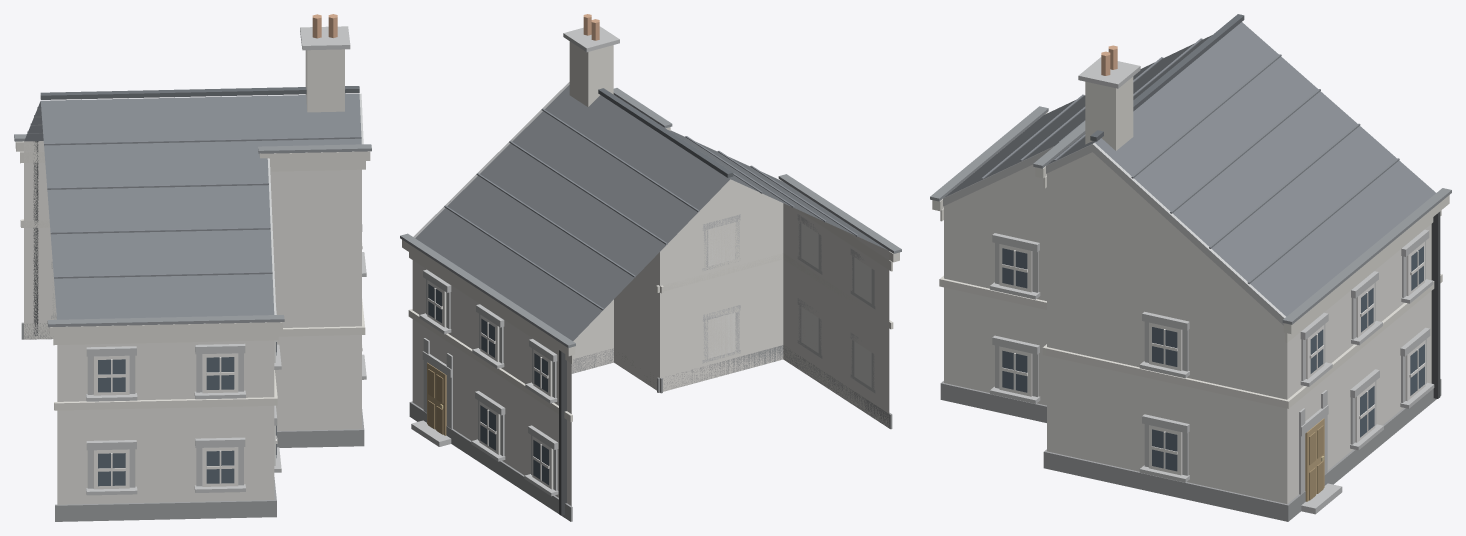
The picture shows the model from 3 angles, left to right: view 1: azimuth 30°, elevation 25°; view 2: azimuth 150°, elevation 25°; view 3: azimuth 270°, elevation 25°; orthographic projection. The views are drawn at different scales.
Parts seen in each view (by area): view 1: slate, harl, string, stone_band, plinth, frame, slate_lt, lead, chim_render, slate_dk, window_glass_009, pipe (+4 smaller); view 2: harl, slate, stone_band, frame, string, plinth, lead, slate_lt, chim_render, slate_dk, pipe, door_wood_p (+1 smaller); view 3: harl, slate, stone_band, plinth, string, frame, lead, slate_lt, chim_render, pipe, slate_dk, window_glass_012 (+5 smaller).
Part boxes in pixels (<box>): slate: <box>24,94,361,319</box>; harl: <box>24,141,361,504</box>; string: <box>15,141,370,410</box>; stone_band: <box>51,26,366,495</box>; plinth: <box>21,322,364,521</box>; frame: <box>93,243,362,489</box>; slate_lt: <box>27,107,361,278</box>; lead: <box>14,134,371,327</box>; chim_render: <box>305,49,344,112</box>; slate_dk: <box>40,86,359,99</box>; window_glass_009: <box>206,357,234,389</box>; pipe: <box>33,141,38,335</box>; harl: <box>412,179,889,505</box>; slate: <box>415,85,888,340</box>; stone_band: <box>411,26,875,496</box>; frame: <box>427,222,871,489</box>; string: <box>402,127,899,421</box>; plinth: <box>409,345,892,521</box>; lead: <box>400,88,901,347</box>; slate_lt: <box>444,108,858,310</box>; chim_render: <box>569,41,613,106</box>; slate_dk: <box>598,88,733,177</box>; pipe: <box>559,350,566,515</box>; door_wood_p: <box>428,369,443,434</box>; harl: <box>944,152,1431,503</box>; slate: <box>944,22,1435,316</box>; stone_band: <box>943,57,1434,514</box>; plinth: <box>940,379,1441,521</box>; string: <box>932,112,1449,408</box>; frame: <box>999,241,1425,475</box>; lead: <box>930,106,1451,324</box>; slate_lt: <box>981,38,1399,284</box>; chim_render: <box>1085,76,1133,150</box>; pipe: <box>1431,211,1440,398</box>; slate_dk: <box>1090,14,1244,141</box>; window_glass_012: <box>1152,429,1177,471</box>.
Bounding box in the file's own units: 12.64 × 11.31 × 12.92.
